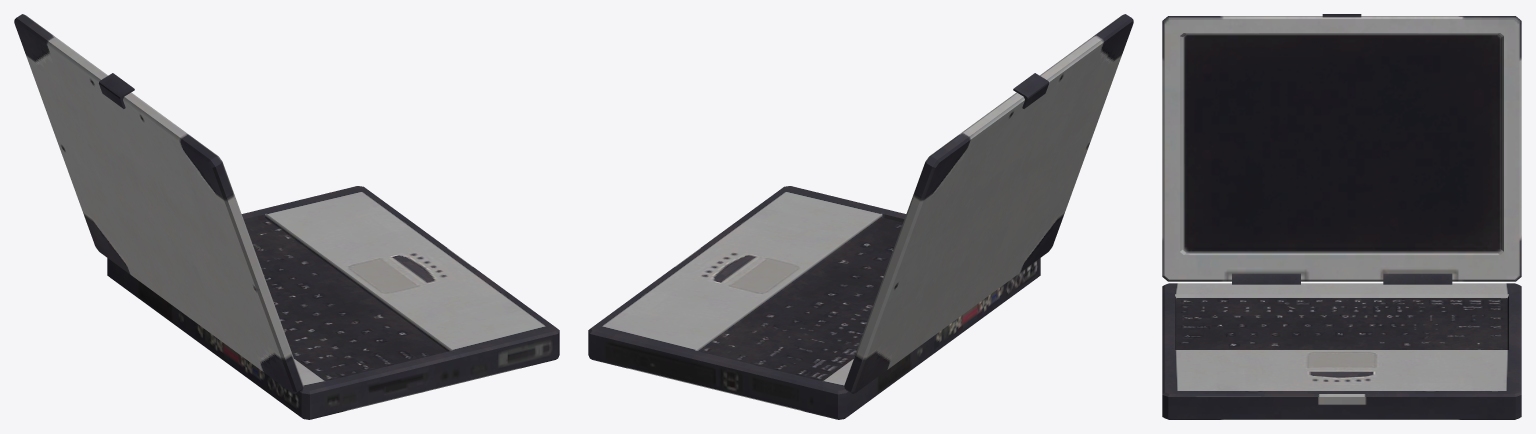
Rendered from com_laptop_open_lod0.glb.
The picture shows the model from 3 angles, left to right: view 1: azimuth 30°, elevation 25°; view 2: azimuth 150°, elevation 25°; view 3: azimuth 270°, elevation 25°; orthographic projection. The views are drawn at different scales.
Parts seen in each view (by area): view 1: surf0; view 2: surf0; view 3: surf0.
Boxes of the visible parts, x1,y1,x2,y2 form: surf0: [14, 14, 559, 419]; surf0: [588, 14, 1133, 419]; surf0: [1162, 14, 1521, 419].
Bounding box in the file's own units: 19.11 × 14.89 × 18.84.
